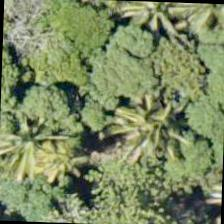Kelapa_Sawit: (6, 105, 99, 198), (107, 74, 200, 167), (0, 98, 65, 191), (112, 0, 204, 58)
